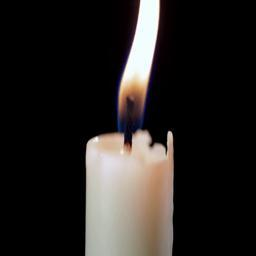fire: (119, 0, 161, 132)
